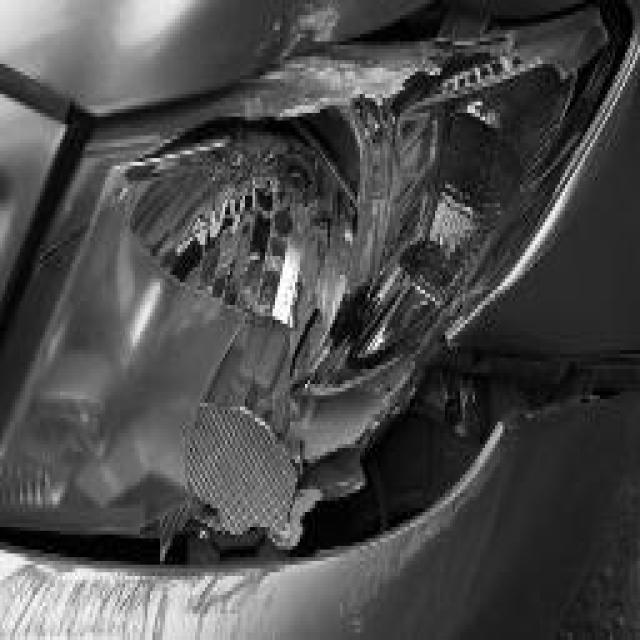Bonnet: (158, 4, 378, 68)
Light: (72, 90, 568, 493)
